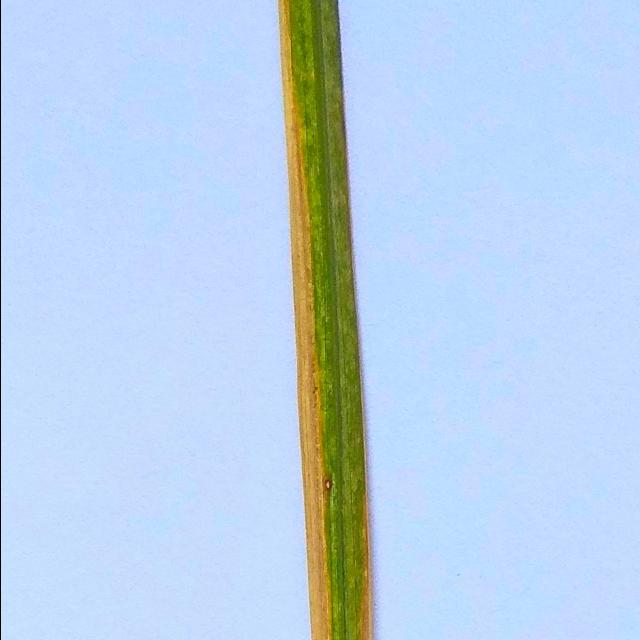Leaf blast: (236, 0, 381, 640)
